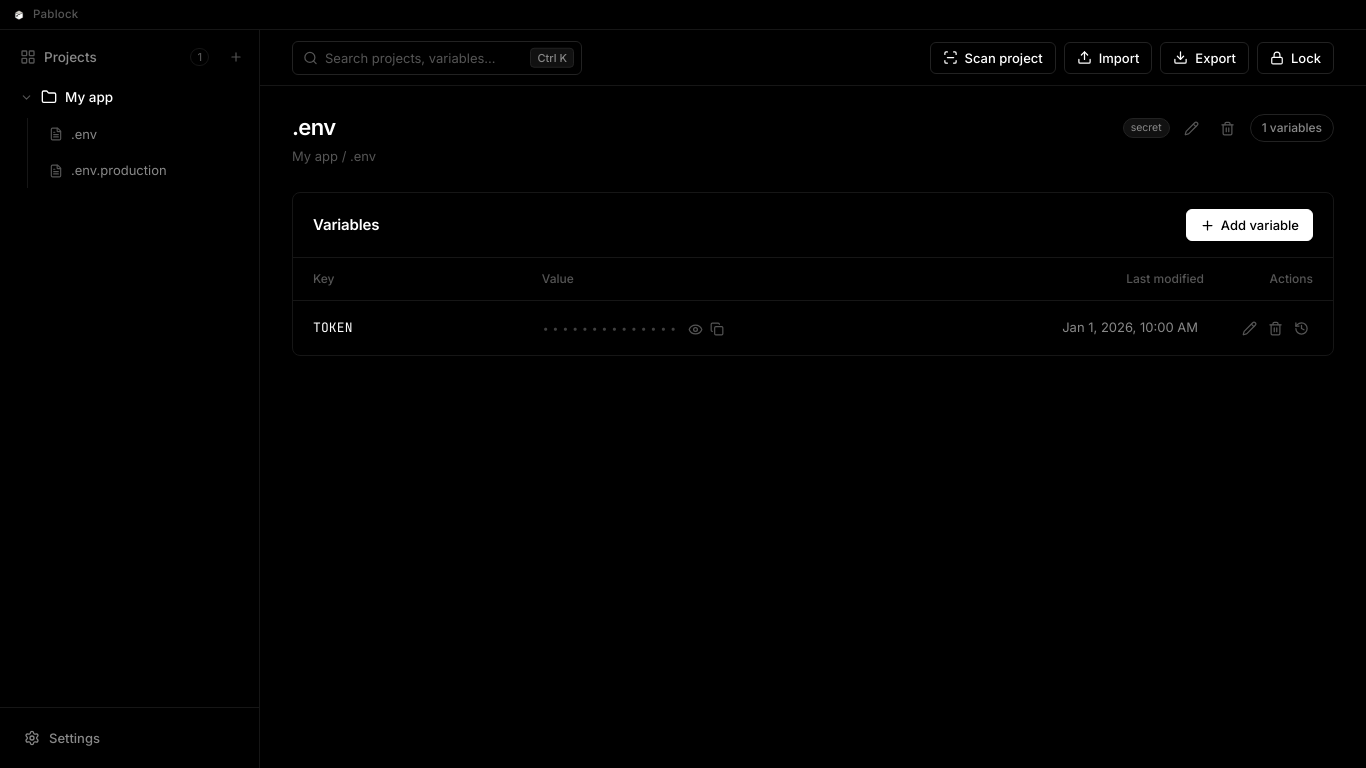
vault workflows › clears a revealed value when switching profiles with identical key timestamps
Click the button named "Reveal TOKEN" at [696, 329], box top-left (688, 322), bottom-right (703, 337)
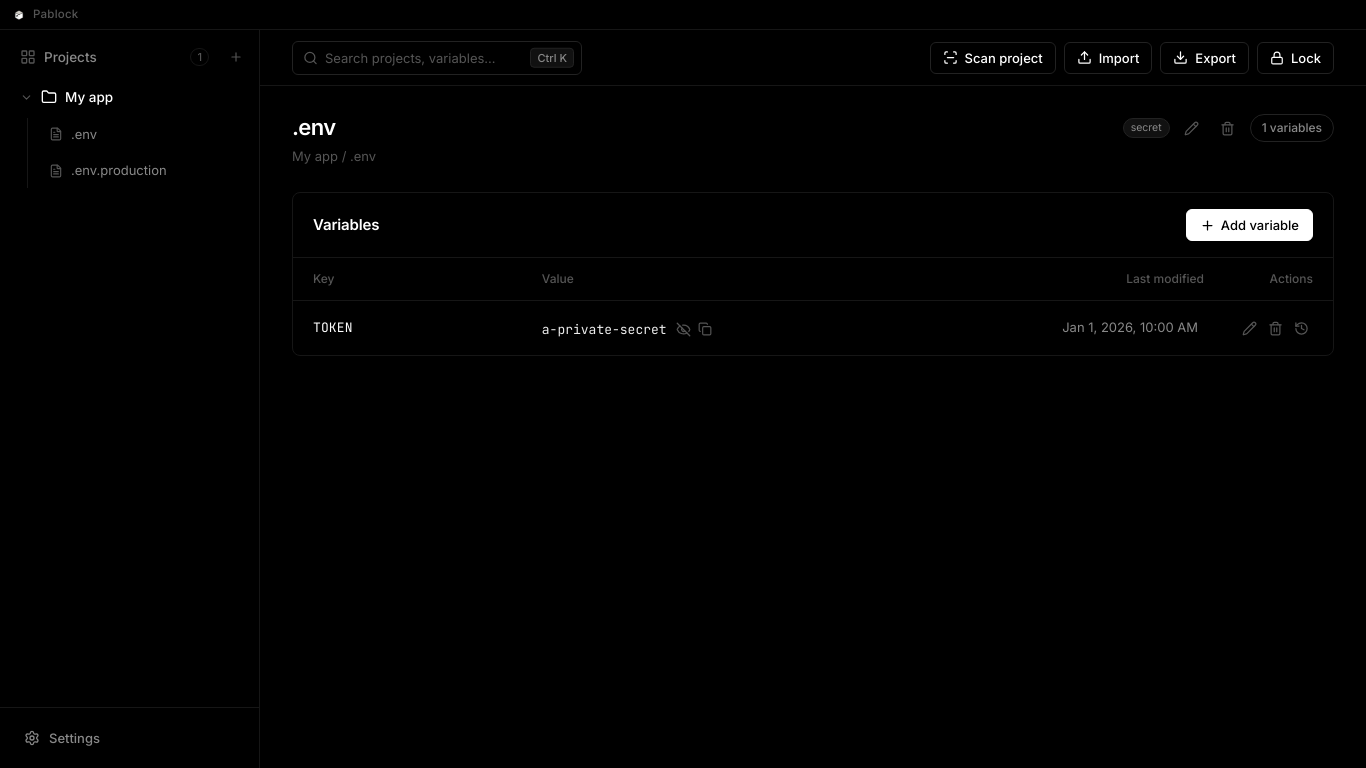
Result: the text "a-private-secret" is shown at top-left (542, 322), bottom-right (667, 337)
Click the button ".env.production" at [108, 170], box top-left (49, 162), bottom-right (167, 178)
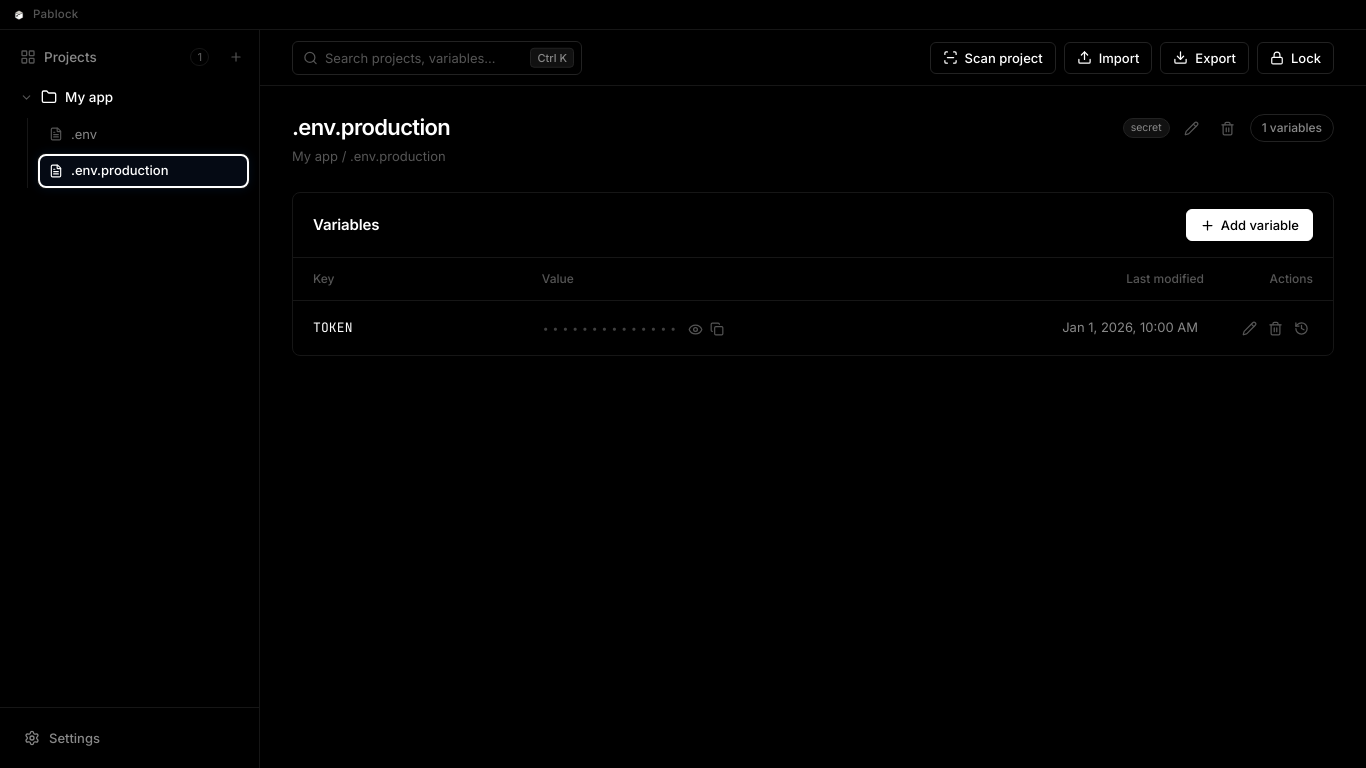
Result: the text "a-private-secret" is gone
Result: the button named "Reveal TOKEN" is shown at top-left (688, 322), bottom-right (703, 337)
